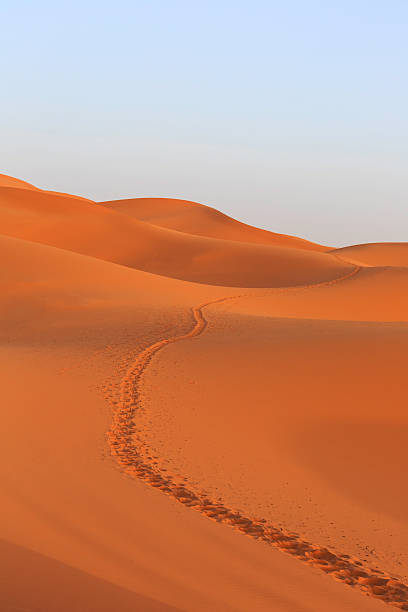human_foot_print: (98, 311, 405, 608)
